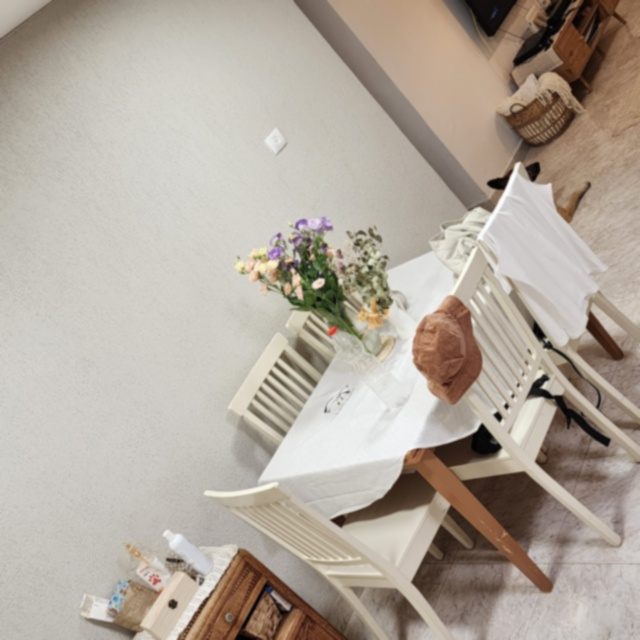glasses: (320, 384, 355, 416)
